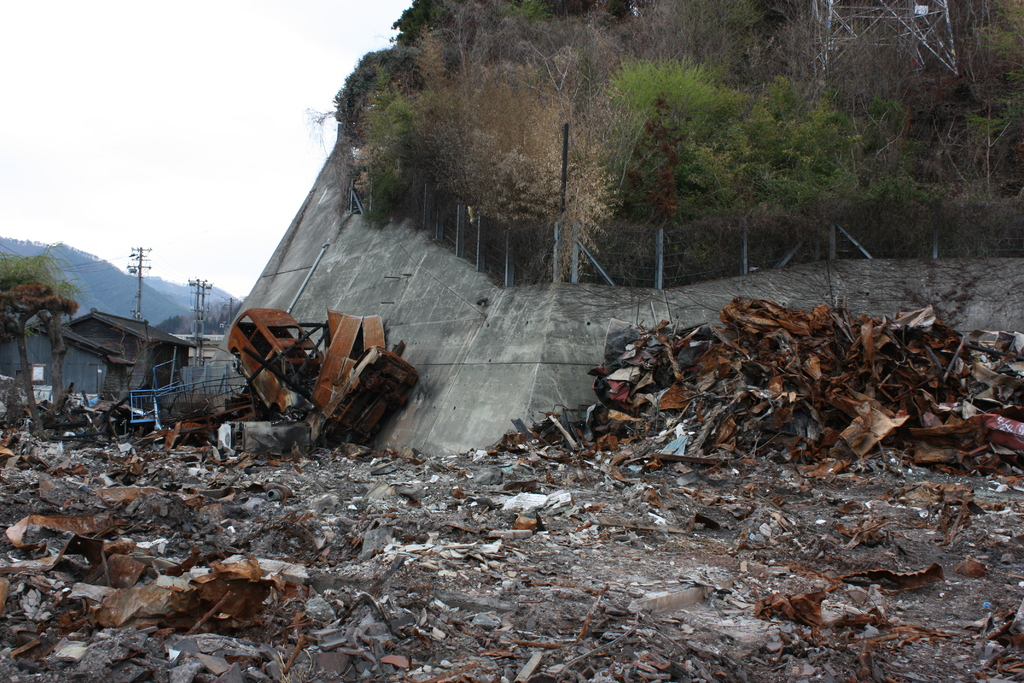Tree: (326, 0, 1024, 290), (0, 285, 59, 433), (0, 243, 86, 324), (35, 294, 77, 413)
